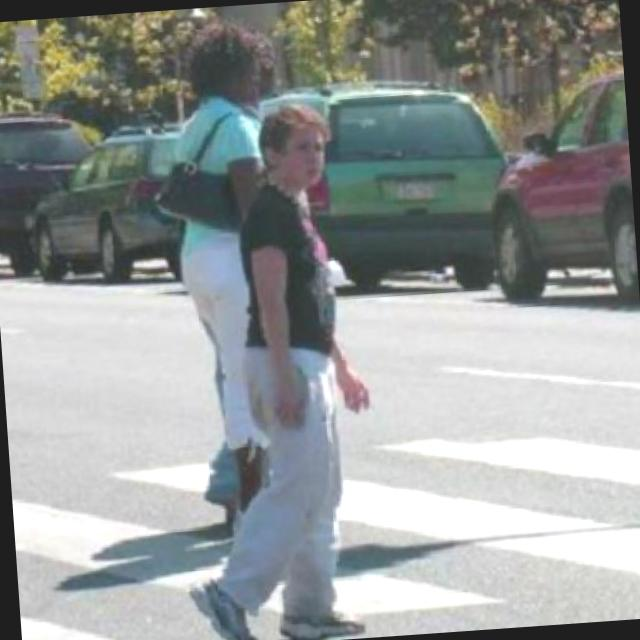Person: (152, 96, 403, 640), (156, 14, 308, 536)
